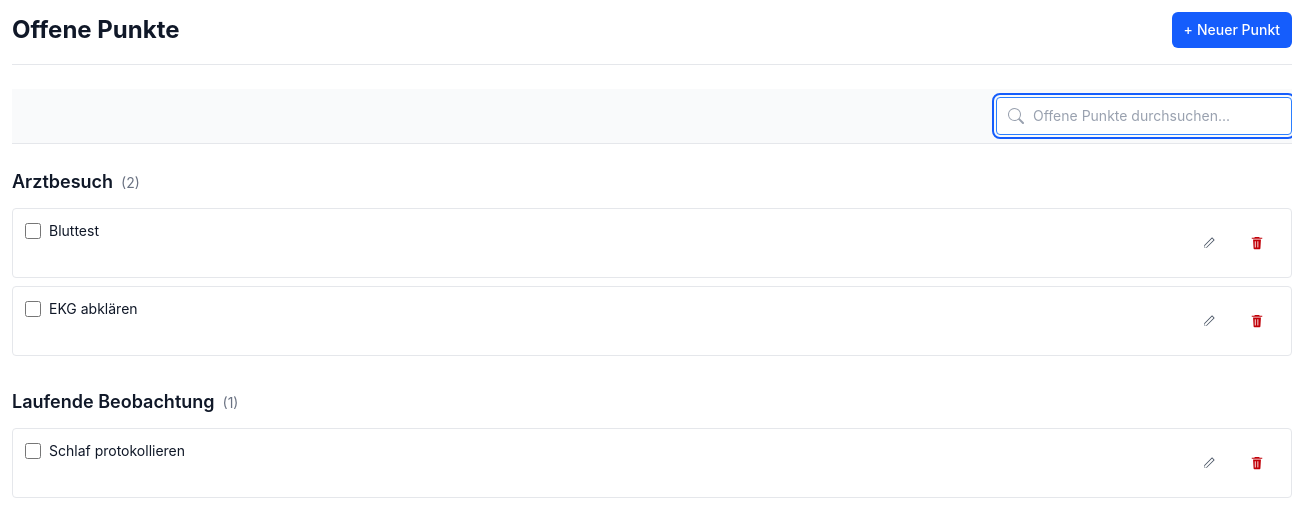
OpenPointsView › search filter (P-22d) › typing a query filters via group-keep semantic (child match)
This screenshot has width=1304, height=515.
Type "Bluttest" into the search field at (1144, 116), box [996, 97, 1292, 135]
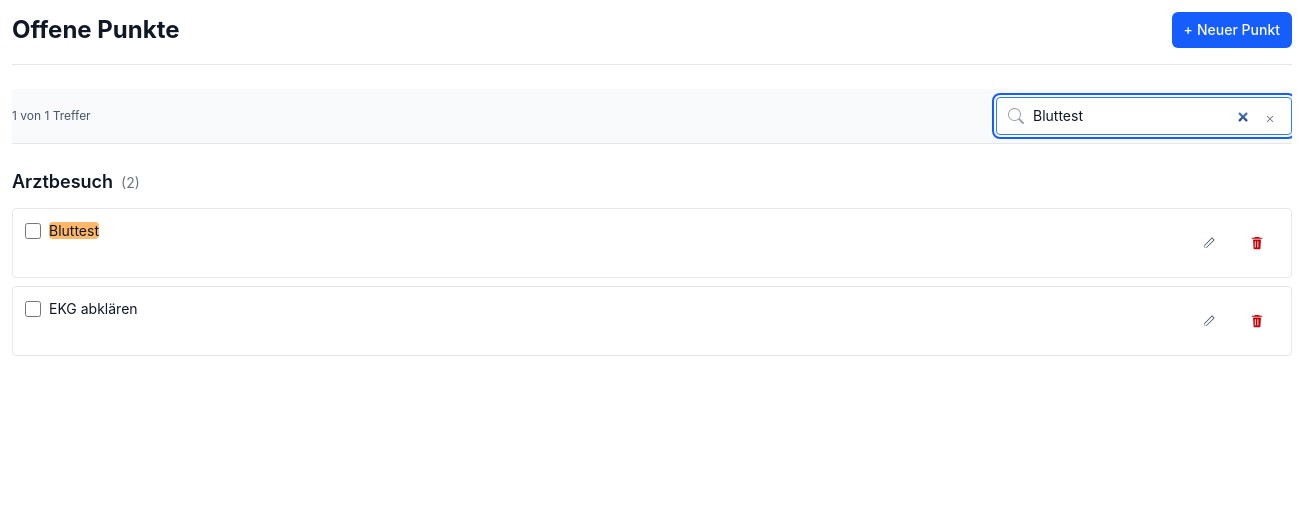
Expected: the heading "Arztbesuch (2)" is shown, [12, 171, 140, 192]
Expected: the text "Laufende Beobachtung" is gone
